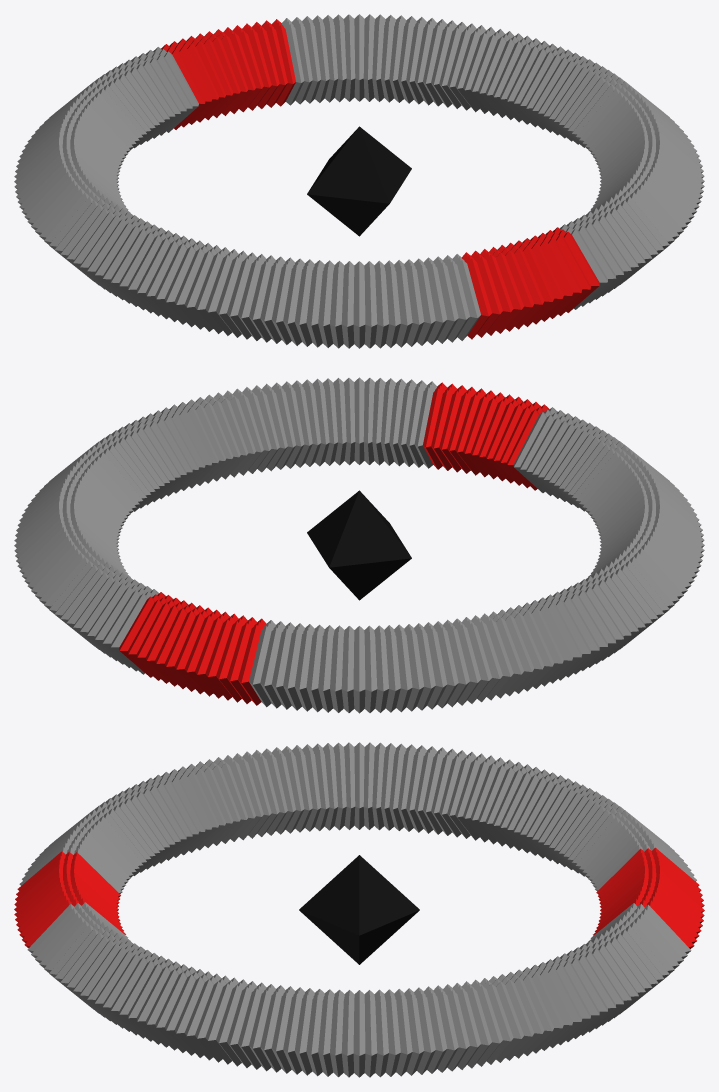
File: local_feasible_centers.obj
3 views of the same model, one above another, from view 1: azimuth 30°, elevation 25°; view 2: azimuth 150°, elevation 25°; view 3: azimuth 270°, elevation 25° (orthographic).
Parts seen in each view (by area): view 1: rejected_candidates, feasible_candidates, target_point_000100; view 2: rejected_candidates, feasible_candidates, target_point_000100; view 3: rejected_candidates, feasible_candidates, target_point_000100.
Boxes of the visible parts, x1,y1,x2,y2 form: rejected_candidates: (14,14,704,348); feasible_candidates: (161,19,599,339); target_point_000100: (307,126,411,236); rejected_candidates: (14,377,704,713); feasible_candidates: (119,382,549,705); target_point_000100: (307,490,411,600); rejected_candidates: (19,742,696,1077); feasible_candidates: (14,847,704,948); target_point_000100: (299,855,419,964).
Size of the model in its own units: 0.023 by 0.00405 by 0.023.
